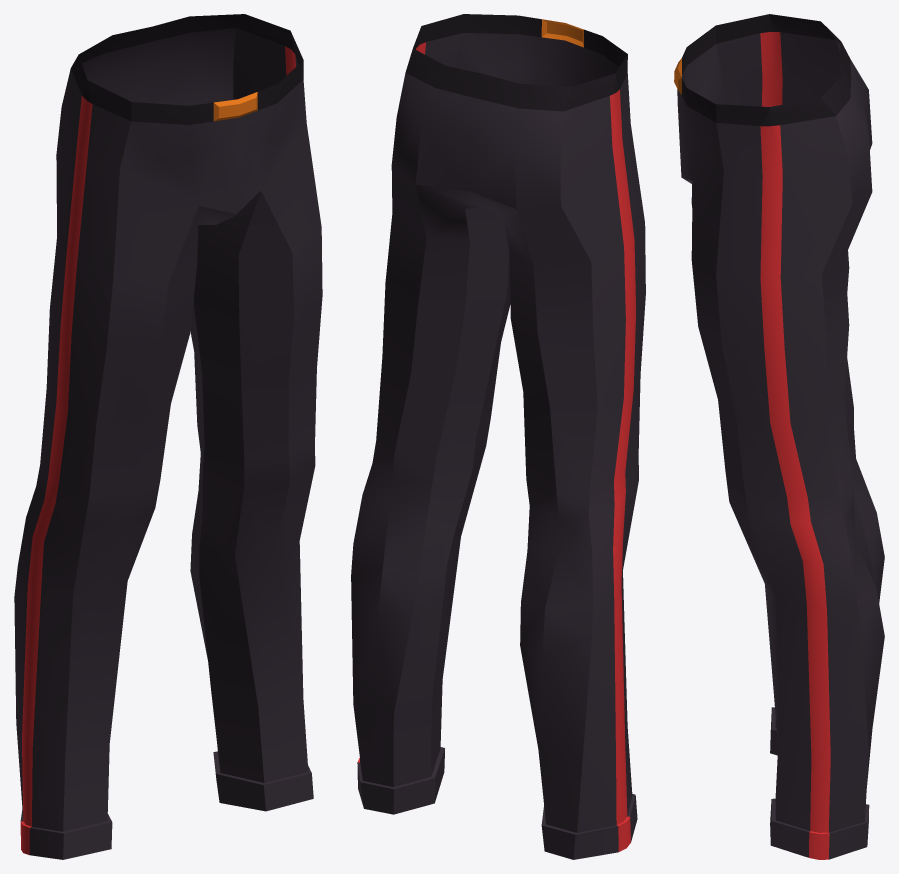
The model's file is NM_Pants_04.fbx.
The picture shows the model from 3 angles, left to right: view 1: azimuth 30°, elevation 25°; view 2: azimuth 150°, elevation 25°; view 3: azimuth 270°, elevation 25°; orthographic projection. The views are drawn at different scales.
Parts seen in each view (by area): view 1: Pants_04; view 2: Pants_04; view 3: Pants_04.
Boxes of the visible parts, left/top/right/bottom form: Pants_04: left=14, top=14, right=322, bottom=859; Pants_04: left=351, top=14, right=645, bottom=859; Pants_04: left=674, top=14, right=884, bottom=859.
Size of the model in its own units: 41.82 by 112 by 29.08.
